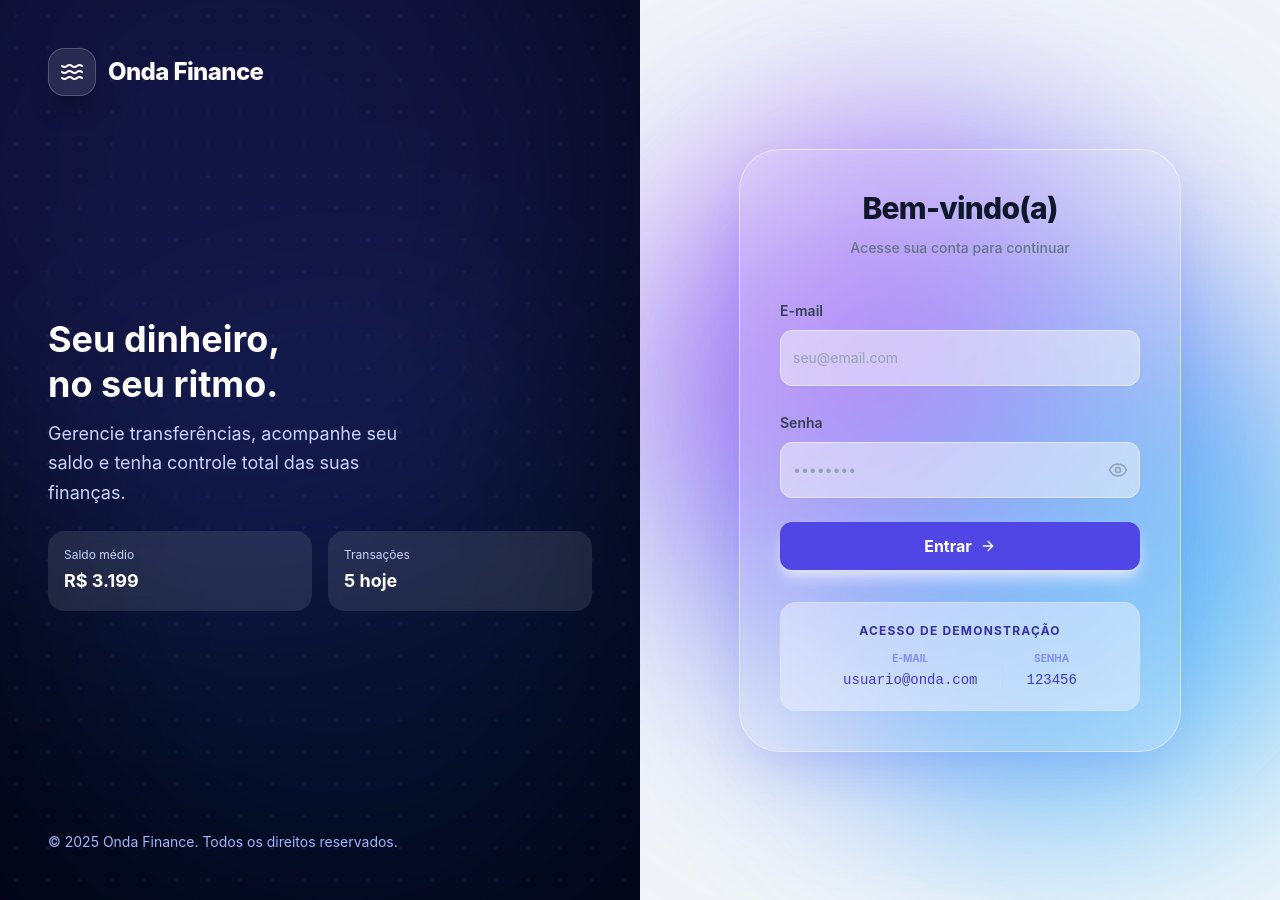
Fluxo de Login › exibe erros de validação com campos vazios
The image size is (1280, 900).
Click the button with test id "login-btn" at (960, 546), box [780,522,1140,570]
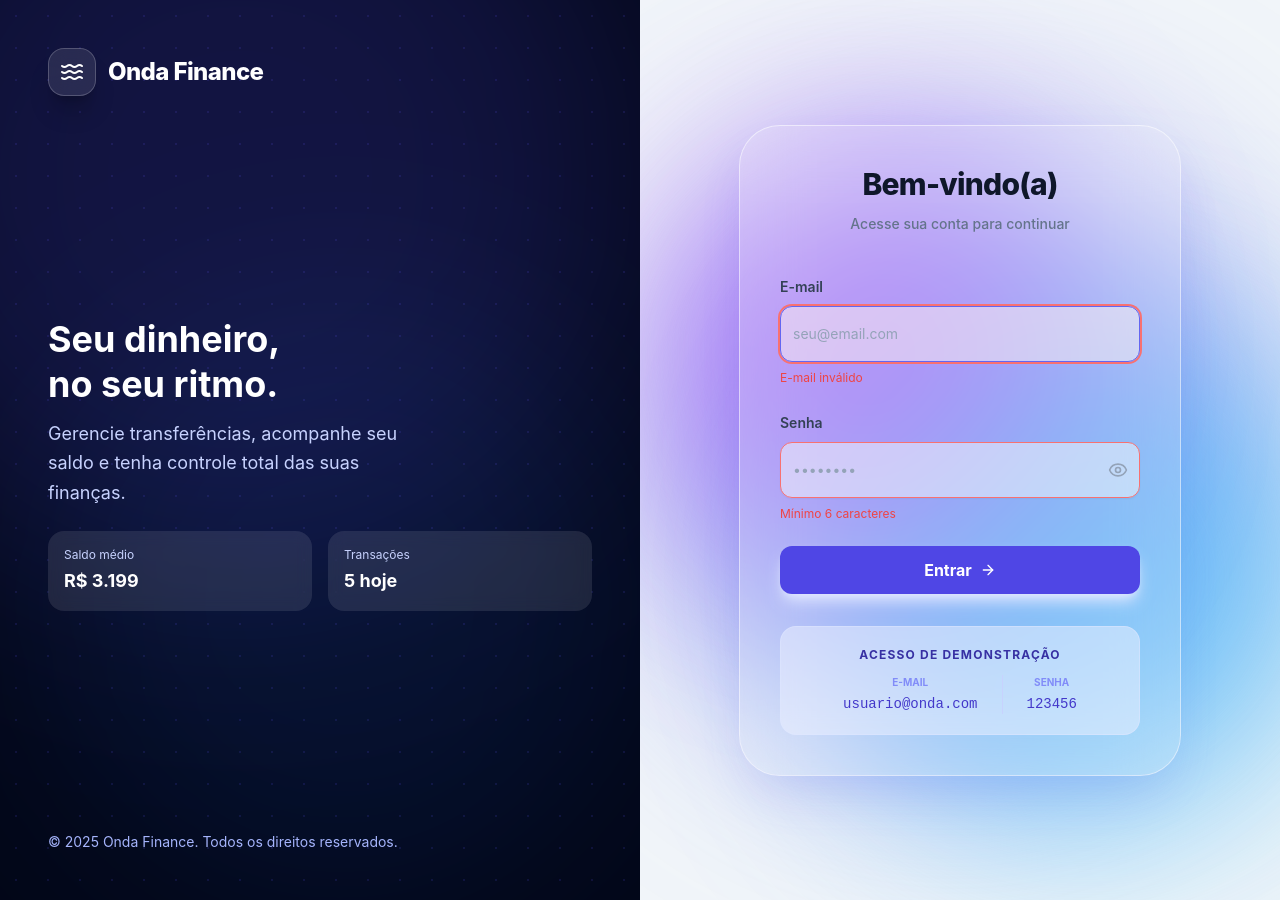
Expected: the text "E-mail inválido" is shown, [780,370,863,384]
Expected: the text "Mínimo 6 caracteres" is shown, [780,506,896,520]
